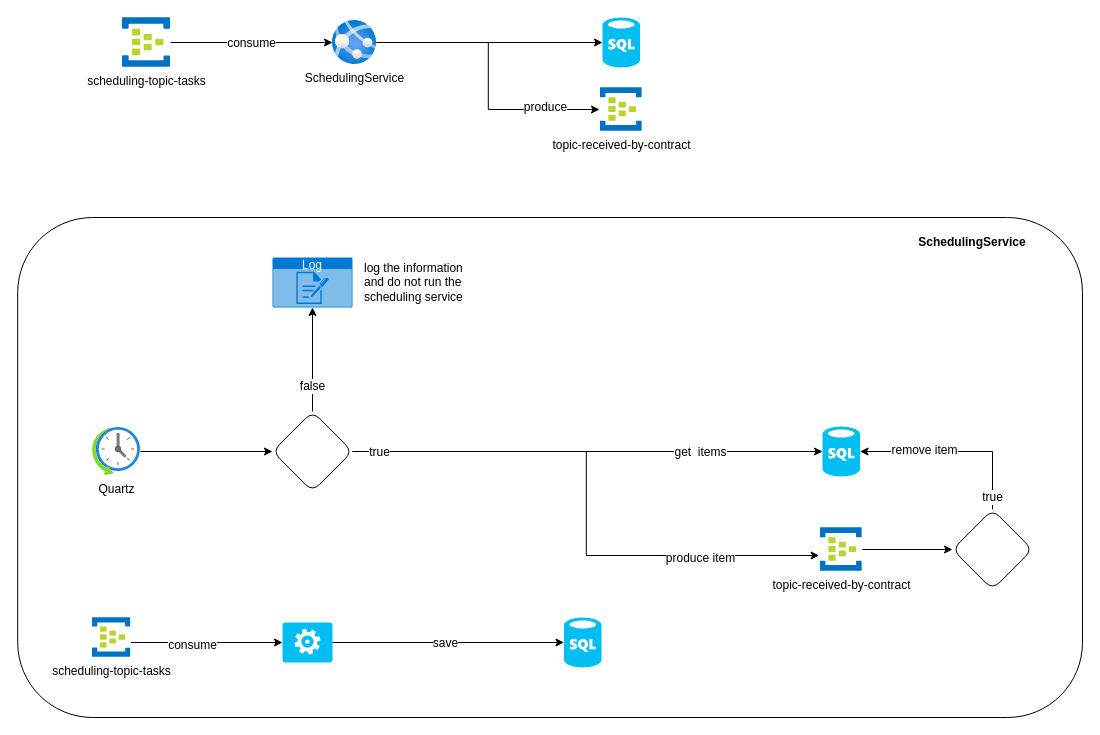
The diagram is 1100 pixels wide and 735 high, and some of its shapes have lost their labels. Each missing label, with the centre of its shape:
"Consumer" belongs at (x=307, y=642).
"Flag is true?" belongs at (x=312, y=451).
"Produce is success?" belongs at (x=992, y=549).
